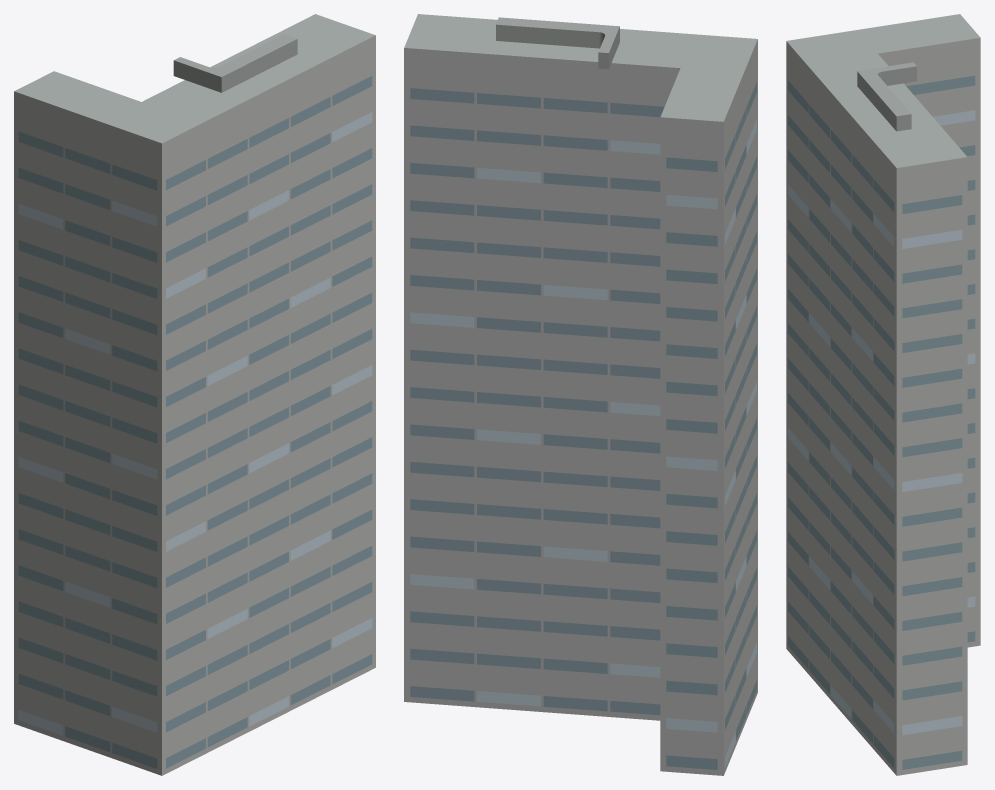
The model's file is fallback-songpa-helio-city-207.glb.
The picture shows the model from 3 angles, left to right: view 1: azimuth 30°, elevation 25°; view 2: azimuth 150°, elevation 25°; view 3: azimuth 270°, elevation 25°; orthographic projection. The views are drawn at different scales.
Visible parts, largest first — view 1: fallback-songpa-helio-city-207; view 2: fallback-songpa-helio-city-207; view 3: fallback-songpa-helio-city-207.
Boxes of the visible parts, x1=… form: fallback-songpa-helio-city-207: x1=14, y1=14, x2=375, y2=775; fallback-songpa-helio-city-207: x1=404, y1=14, x2=757, y2=775; fallback-songpa-helio-city-207: x1=786, y1=14, x2=980, y2=775.
Bounding box in the file's own units: 52.53 × 99 × 28.
